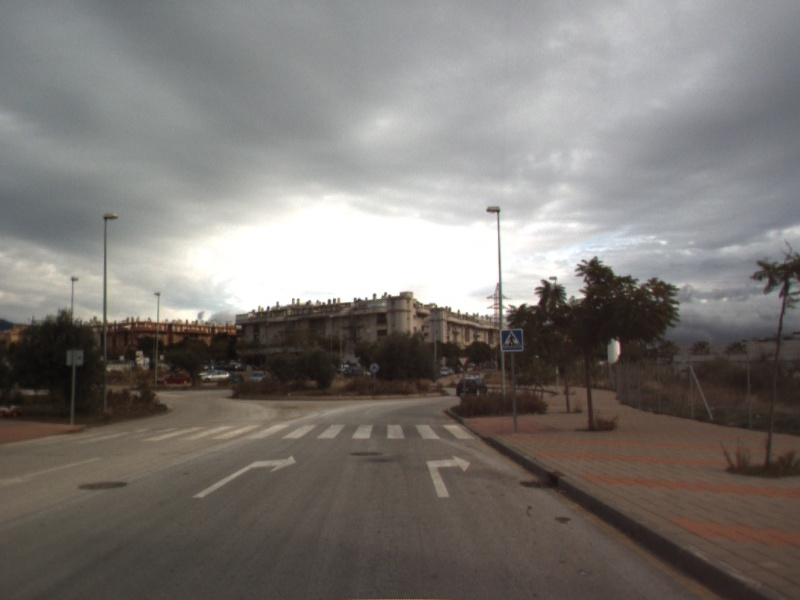RIGHT: (191, 453, 298, 500), (424, 453, 472, 500)
